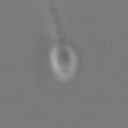normal: (33, 1, 72, 42)
